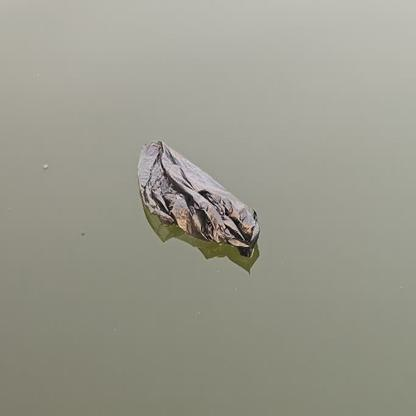plastic bag: (137, 138, 259, 254)
